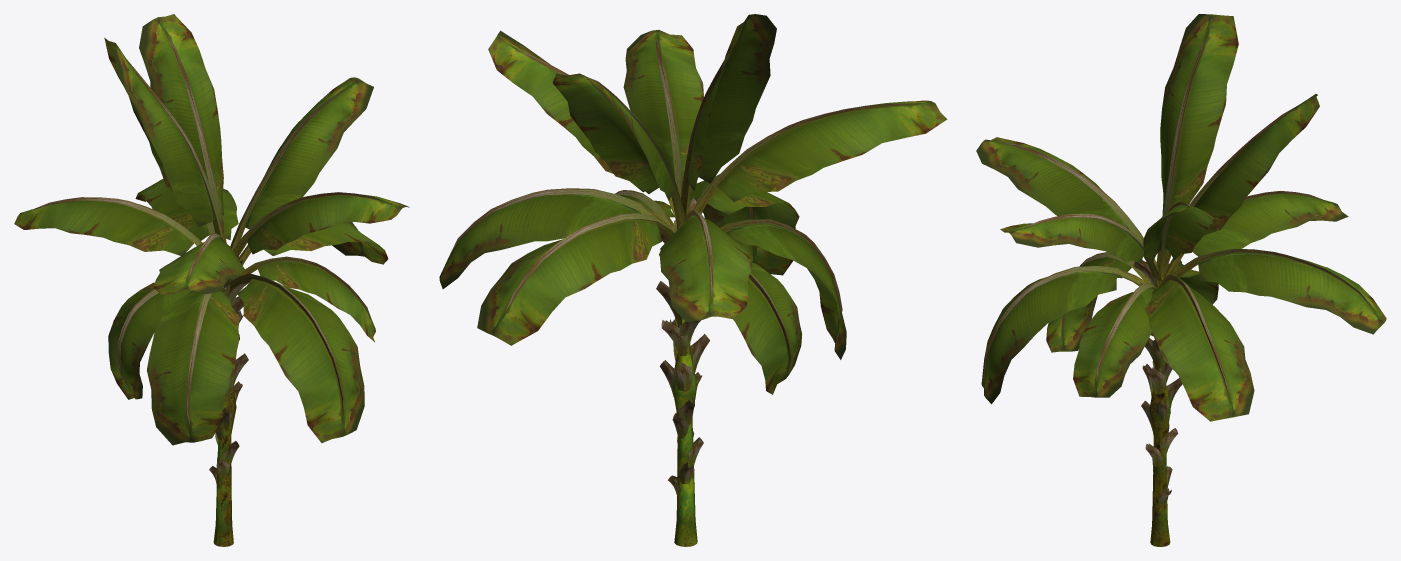
3 renders of one model, left to right at view 1: azimuth 30°, elevation 25°; view 2: azimuth 150°, elevation 25°; view 3: azimuth 270°, elevation 25°, orthographic. The views are drawn at different scales.
Visible parts, largest first — view 1: Tree_1, Tree_2, Tree_0; view 2: Tree_1, Tree_2, Tree_0; view 3: Tree_1, Tree_2, Tree_0.
Boxes of the visible parts, x1,y1,x2,y2 form: Tree_1: (14,14,409,445); Tree_2: (37,34,385,485); Tree_0: (213,387,236,546); Tree_1: (439,14,947,394); Tree_2: (449,30,913,495); Tree_0: (672,225,697,546); Tree_1: (976,14,1386,421); Tree_2: (984,34,1370,506); Tree_0: (1149,277,1170,546).
Size of the model in its own units: 1.49 by 2.16 by 1.64.
Materials: 3 (3 with a texture image).
